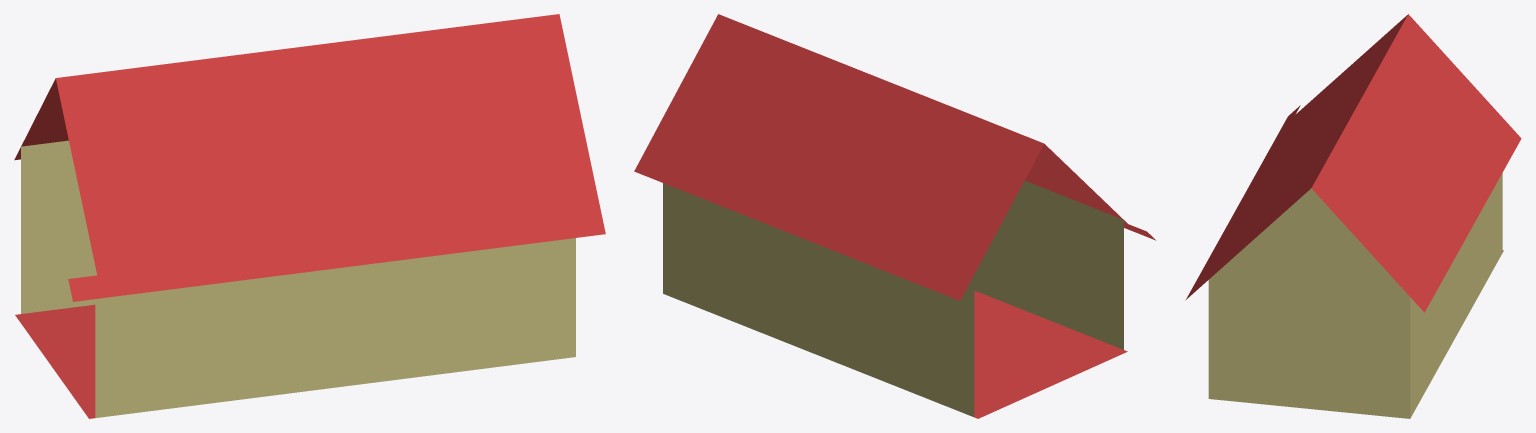
3 views of the same model, side by side, from view 1: azimuth 30°, elevation 25°; view 2: azimuth 150°, elevation 25°; view 3: azimuth 270°, elevation 25° (orthographic). The views are drawn at different scales.
Bounding box in the file's own units: 25.5 × 17.41 × 13.1.
